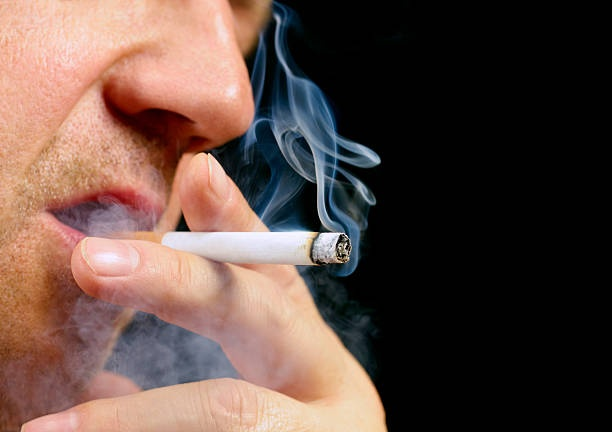sigaretta: (111, 208, 363, 270)
